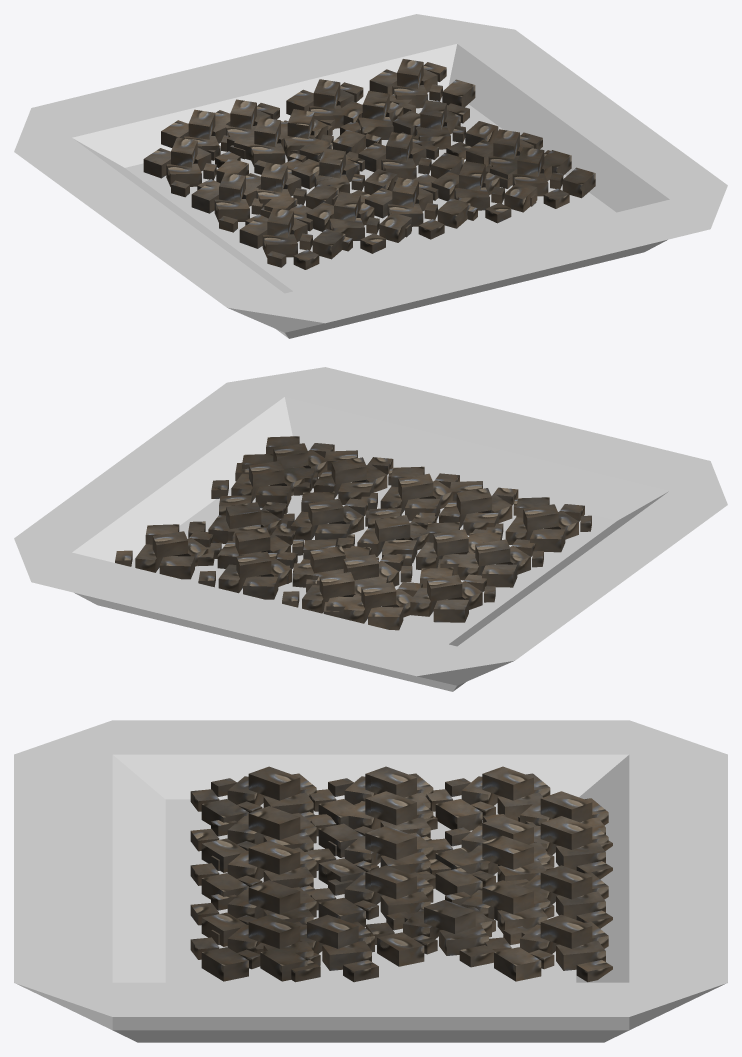
File: breadcrumbs.fbx
3 views of the same model, one above another, from view 1: azimuth 30°, elevation 25°; view 2: azimuth 150°, elevation 25°; view 3: azimuth 270°, elevation 25° (orthographic). The views are drawn at different scales.
Parts seen in each view (by area): view 1: mergedBlocks; view 2: mergedBlocks; view 3: mergedBlocks.
Part boxes in pixels (bbox=[...]): mergedBlocks: bbox=[14, 14, 727, 338]; mergedBlocks: bbox=[14, 367, 727, 691]; mergedBlocks: bbox=[14, 720, 727, 1042].
Size of the model in its own units: 12.02 by 1.6 by 12.22.
2 materials, 1 textured.
